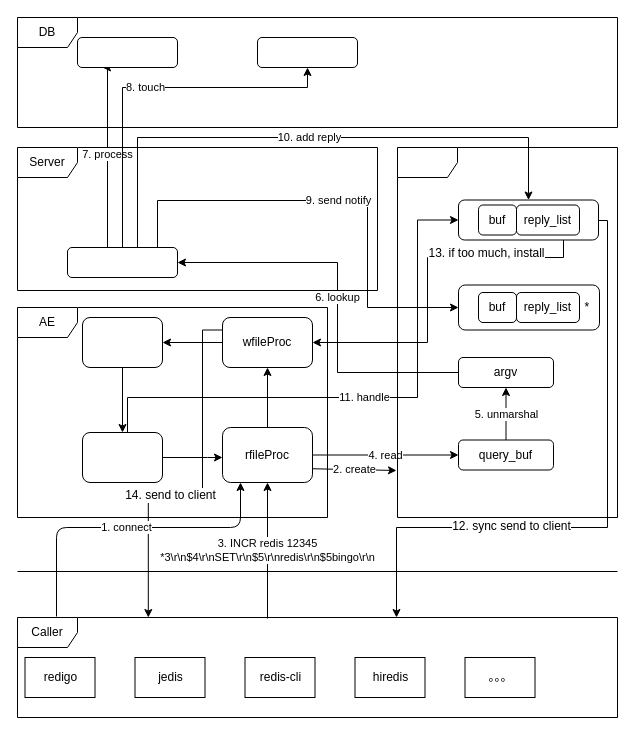
Some shapes in this 635 by 735 pixel diagram are drawn without their labels. Each missing label, with the centre of its shape:
"beforeSleep" goes at point 122,457.
"Client" goes at point 507,332.
"dict" goes at point 127,52.
"incrCommand" goes at point 122,262.
"timeProc" goes at point 122,342.
"watch keys" goes at point 307,52.
